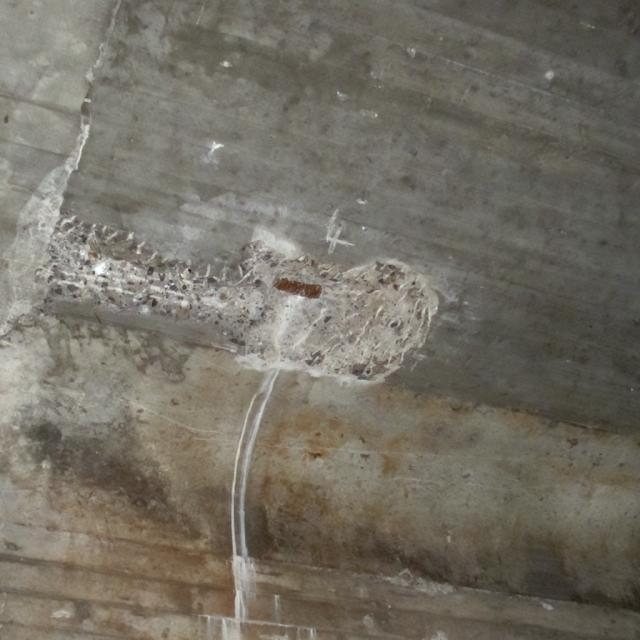D10: (30, 214, 442, 379)
